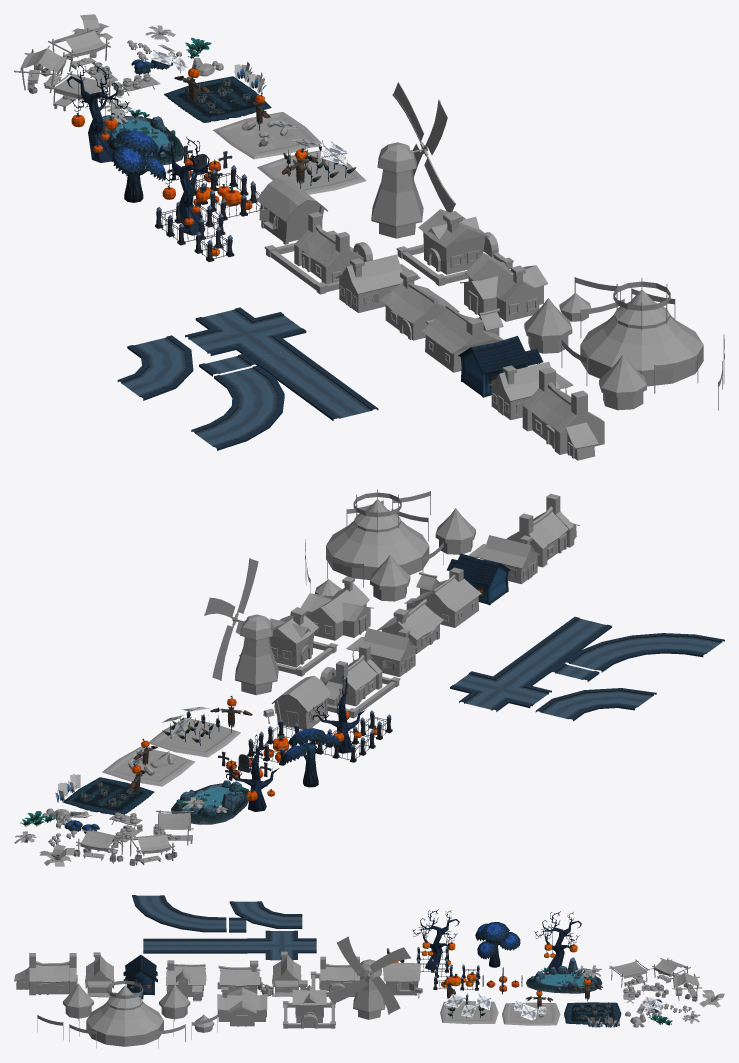
The model's file is Halloween_Farm.obj.
3 renders of one model, top to bottom at view 1: azimuth 30°, elevation 25°; view 2: azimuth 150°, elevation 25°; view 3: azimuth 270°, elevation 25°, orthographic. The views are drawn at different scales.
Parts seen in each view (by area): view 1: Line400, Object279, Object281, Object288, Object272, Object297, Object289, Object164, Line311, Object286, Line402, Object282 (+19 smaller); view 2: Line400, Object279, Object288, Object272, Object297, Object289, Line311, Object281, Object282, Object286, Object072, Line399 (+19 smaller); view 3: Line400, Object279, Object281, Object288, Object272, Object289, Object297, Line1423, Object286, Line311, Object257, Object282 (+21 smaller).
Part boxes in pixels (x1,y1,x2,y2): Line400: (524,277,724,410); Object279: (371,82,455,238); Object281: (522,367,604,460); Object288: (191,365,284,450); Object272: (460,253,547,321); Object297: (185,307,306,358); Object289: (251,348,378,420); Object164: (418,209,489,274); Line311: (421,304,503,372); Object286: (117,335,193,400); Line402: (213,112,322,159); Object282: (256,177,327,244); Line400: (305,489,475,601); Object279: (204,558,278,695); Object288: (564,633,724,672); Object272: (300,576,373,640); Object297: (450,667,551,711); Object289: (506,616,611,677); Line311: (404,567,481,627); Object281: (506,493,579,567); Object282: (263,676,331,729); Object286: (535,688,656,721); Object072: (324,644,382,706); Line399: (63,777,154,814); Line400: (37,978,217,1048); Object279: (326,936,410,1019); Object281: (14,953,77,995); Object288: (132,895,226,932); Object272: (217,987,267,1026); Object289: (143,938,247,953); Object297: (247,930,316,960); Line1423: (475,922,520,967); Object286: (229,901,302,928); Line311: (166,960,206,1001); Object257: (217,960,273,996); Object282: (383,963,422,998).
Bounding box in the file's own units: 1756 × 486 × 3590.
